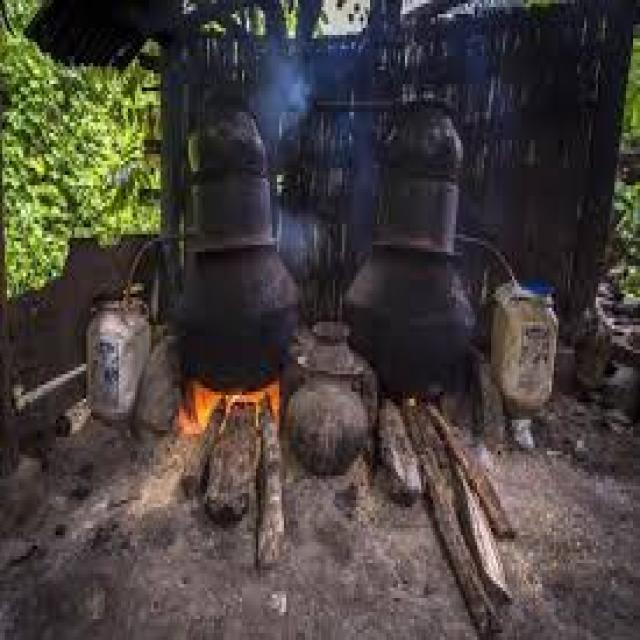fire: (224, 380, 280, 427), (178, 377, 219, 436)
